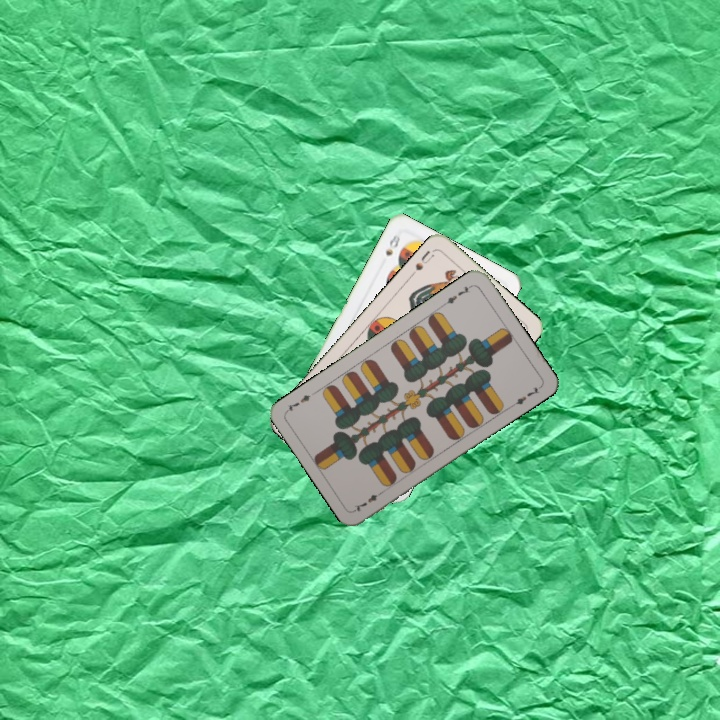E7: (350, 486, 387, 514), (439, 281, 475, 308)
S8: (381, 230, 403, 258)
SU: (407, 246, 436, 279)
